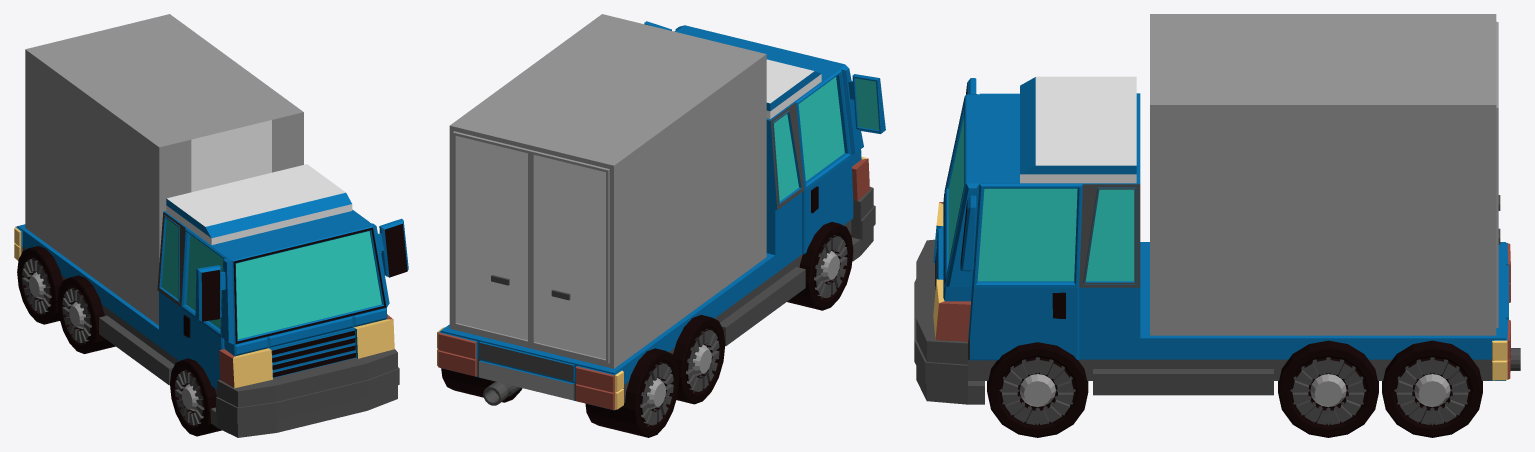
The model's file is uploads_files_4015616_simple+low+poly+truck+or+lorry+.glb.
3 views of the same model, side by side, from view 1: azimuth 30°, elevation 25°; view 2: azimuth 150°, elevation 25°; view 3: azimuth 270°, elevation 25° (orthographic). The views are drawn at different scales.
Visible parts, largest first — view 1: Cube, Cylinder.005, Cylinder.004, Cylinder; view 2: Cube, Cylinder, Cylinder.004, Cylinder.005, Cylinder.003; view 3: Cube, Cylinder.002, Cylinder.003, Cylinder.001.
Boxes of the visible parts, bbox=[...] form: Cube: bbox=[14, 14, 408, 437]; Cylinder.005: bbox=[57, 275, 115, 353]; Cylinder.004: bbox=[170, 358, 221, 436]; Cylinder: bbox=[17, 246, 62, 324]; Cube: bbox=[437, 14, 885, 410]; Cylinder: bbox=[585, 348, 679, 437]; Cylinder.004: bbox=[787, 222, 853, 310]; Cylinder.005: bbox=[673, 315, 725, 404]; Cylinder.003: bbox=[441, 368, 522, 402]; Cube: bbox=[914, 14, 1520, 404]; Cylinder.002: bbox=[1278, 340, 1378, 437]; Cylinder.003: bbox=[1382, 340, 1482, 437]; Cylinder.001: bbox=[987, 342, 1088, 437].
Size of the model in its own units: 3.66 by 4.2 by 7.11.
Materials: 1 (1 with a texture image).
